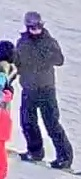snowboarder: (5, 12, 81, 176)
